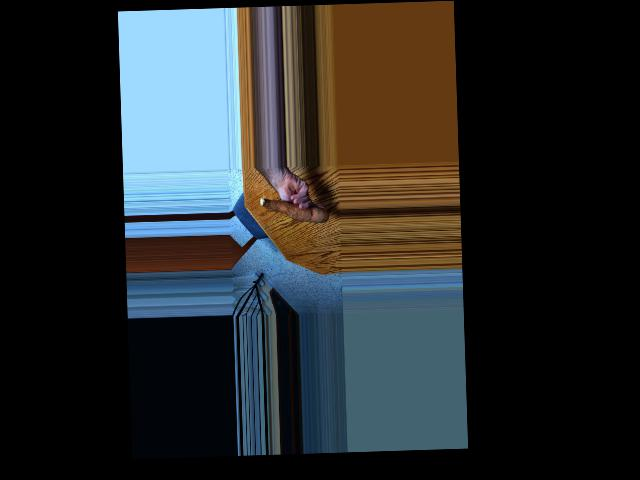sweet_potato: (258, 193, 327, 227)
